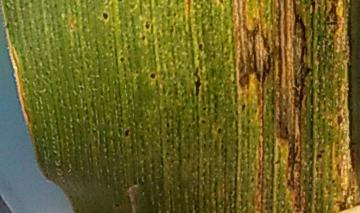tarspot: (190, 64, 204, 100), (162, 118, 174, 132), (121, 126, 132, 141), (147, 70, 161, 81), (196, 38, 206, 53), (237, 101, 250, 112), (139, 31, 149, 45), (100, 10, 111, 22), (111, 200, 123, 211), (142, 20, 153, 31), (215, 125, 225, 136), (116, 54, 126, 64), (314, 151, 323, 162), (198, 117, 207, 126), (200, 104, 209, 113)
